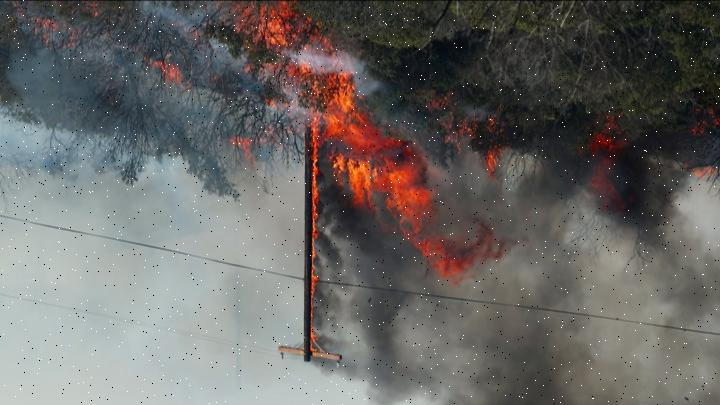fire: (17, 0, 500, 286), (556, 97, 651, 232)
